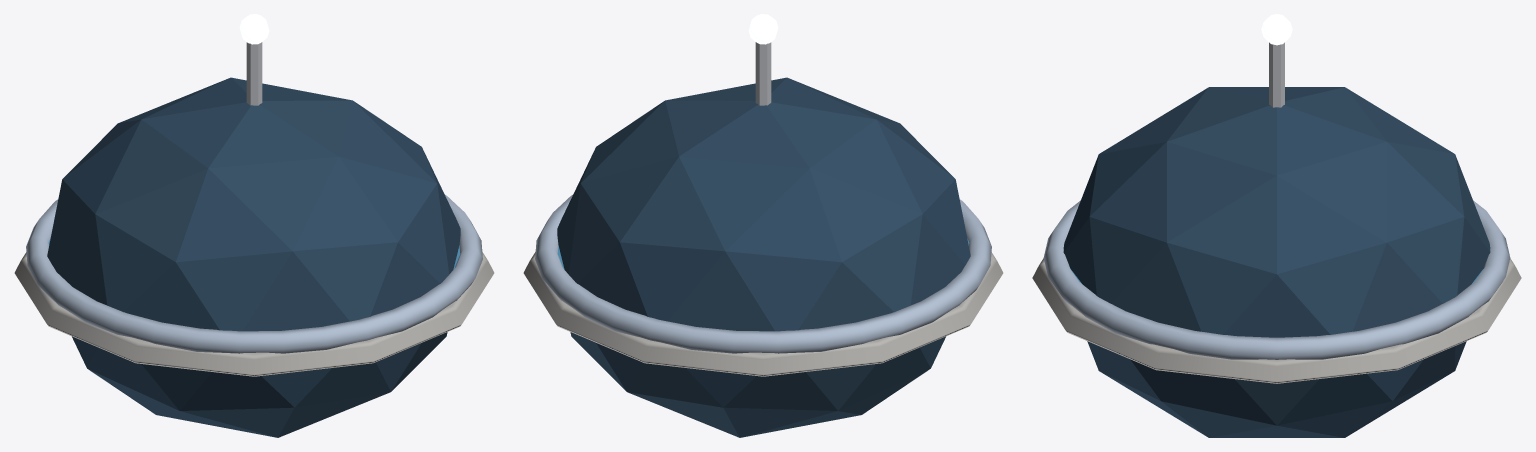
File: biosphere.glb
3 renders of one model, left to right at view 1: azimuth 30°, elevation 25°; view 2: azimuth 150°, elevation 25°; view 3: azimuth 270°, elevation 25°, orthographic.
Visible parts, largest first — view 1: biosphere; view 2: biosphere; view 3: biosphere.
Boxes of the visible parts, <box> form: biosphere: <box>14,14,494,437</box>; biosphere: <box>523,14,1003,437</box>; biosphere: <box>1032,14,1521,437</box>.
Size of the model in its own units: 0.9332 by 0.856 by 0.9332.
